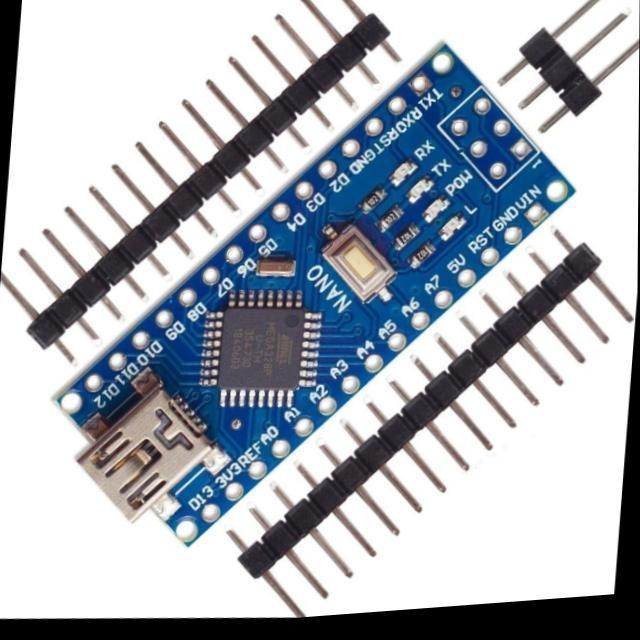Arduino-Nano: (60, 46, 573, 545)
